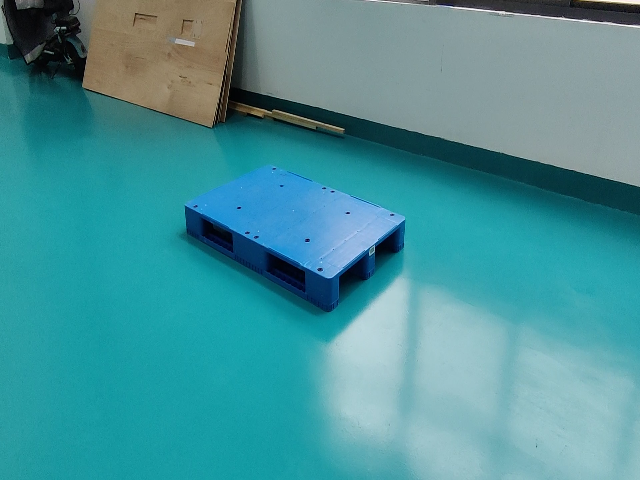block: (227, 232, 267, 276), (305, 266, 340, 310), (181, 203, 204, 244), (361, 241, 377, 281), (397, 220, 405, 254)
front: (335, 212, 408, 307)
hole pallet: (340, 255, 367, 300), (375, 230, 398, 271)
